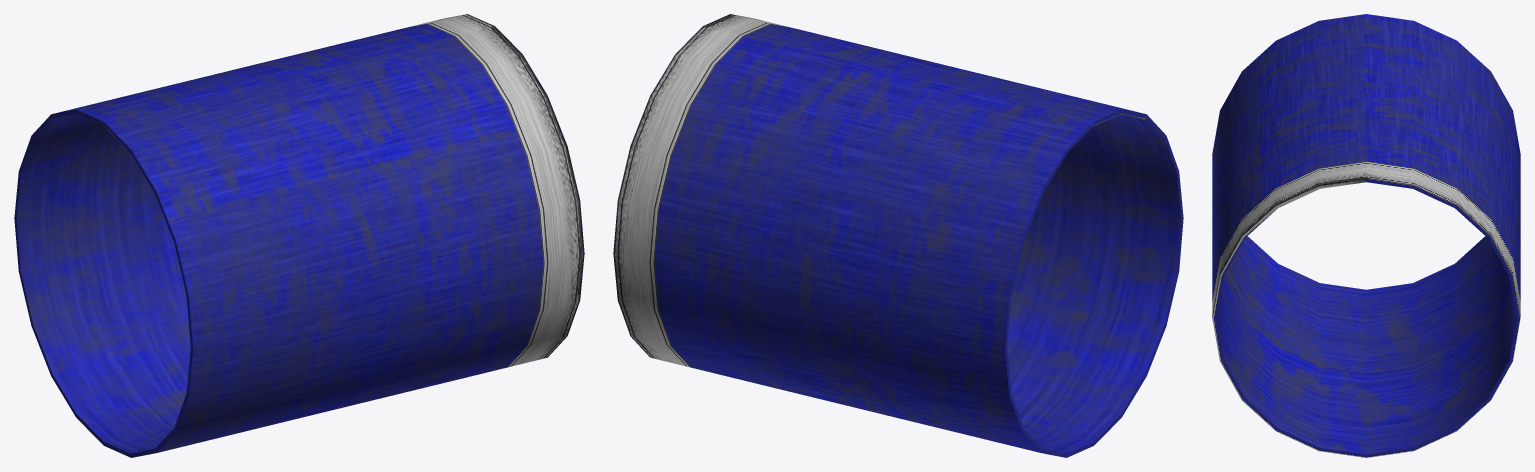
Rendered from CubeBaseFrontPipeRightB.fbx.
3 renders of one model, left to right at view 1: azimuth 30°, elevation 25°; view 2: azimuth 150°, elevation 25°; view 3: azimuth 270°, elevation 25°, orthographic. The views are drawn at different scales.
Visible parts, largest first — view 1: pPipe1; view 2: pPipe1; view 3: pPipe1.
Boxes of the visible parts, x1=… form: pPipe1: x1=14, y1=14, x2=584, y2=457; pPipe1: x1=613, y1=14, x2=1183, y2=457; pPipe1: x1=1212, y1=14, x2=1520, y2=457.
Size of the model in its own units: 1.01 by 0.8 by 0.8.
1 material, 1 textured.
